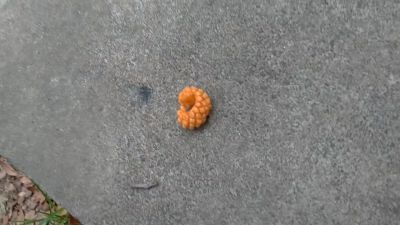eggs: (177, 85, 214, 132)
